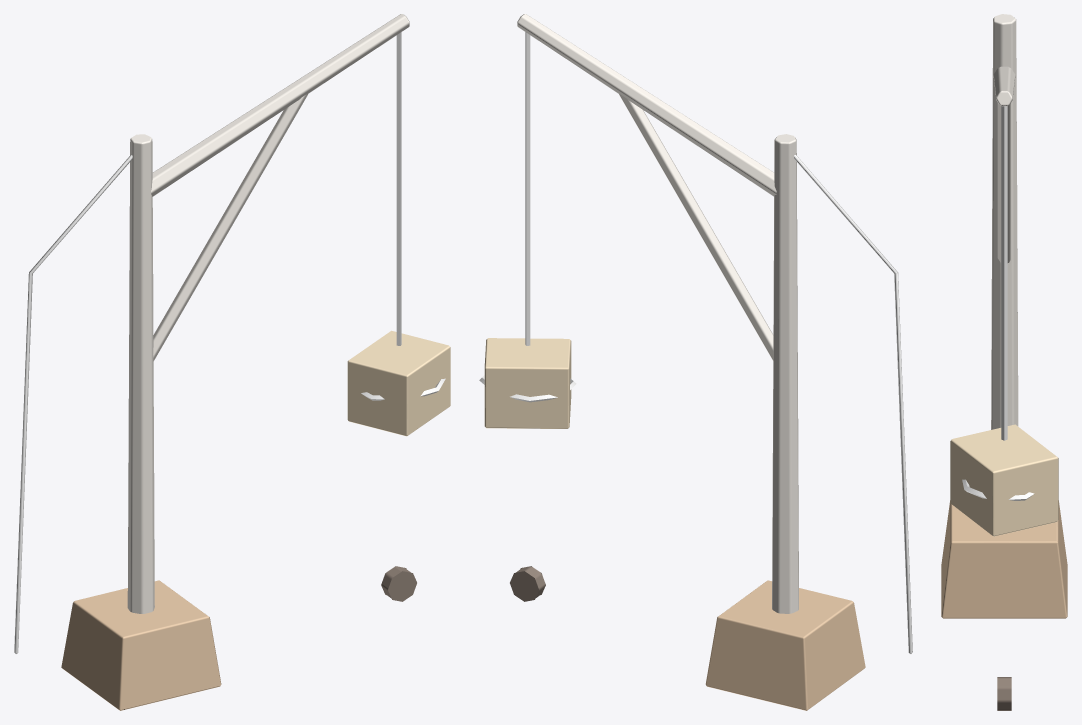
File: prop_crane.glb
The picture shows the model from 3 angles, left to right: view 1: azimuth 30°, elevation 25°; view 2: azimuth 150°, elevation 25°; view 3: azimuth 270°, elevation 25°; orthographic projection. The views are drawn at different scales.
Visible parts, largest first — view 1: prop_crane; view 2: prop_crane; view 3: prop_crane.
Part boxes in pixels (x1=…): prop_crane: x1=14, y1=14, x2=450, y2=710; prop_crane: x1=479, y1=14, x2=912, y2=710; prop_crane: x1=941, y1=14, x2=1067, y2=710.
Bounding box in the file's own units: 5.85 × 7.77 × 1.39.
